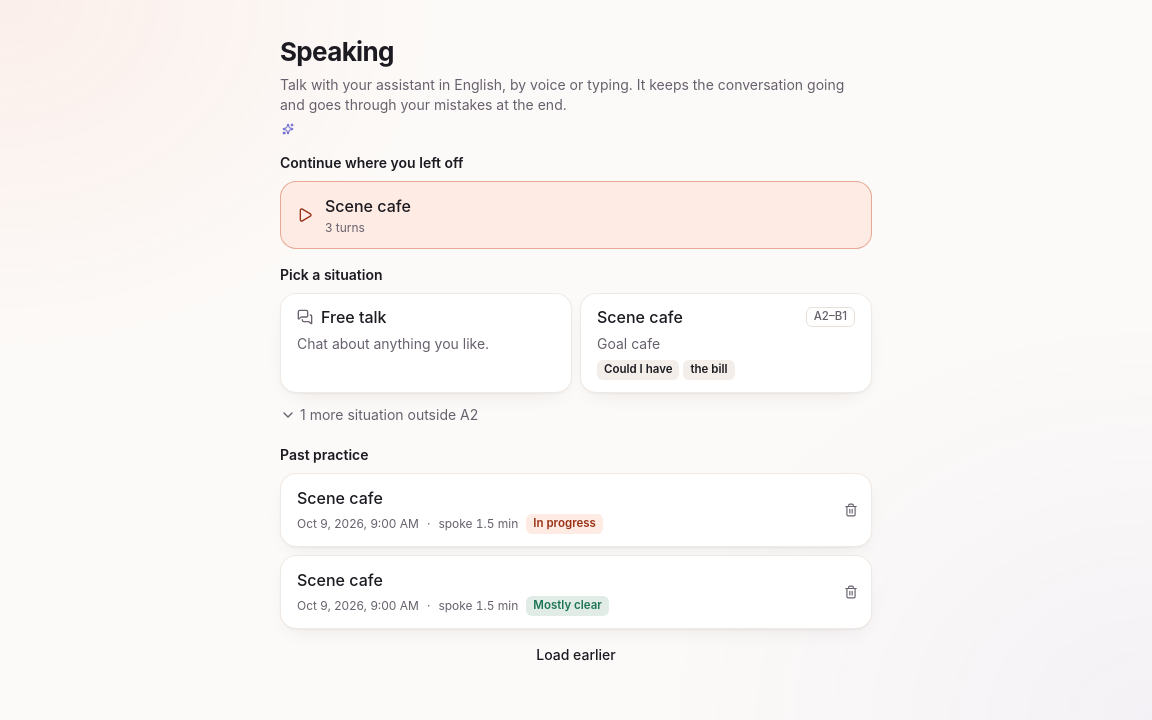
Test: SpeakingList › offers the open practice first, lists past ones and deletes one
Expected: the link with test id "speaking-continue" shows "Scene cafe", [280,181,872,249]
Expected: the link with test id "speaking-continue" shows "3 turns", [280,181,872,249]
Click the button "Load earlier".
click(576, 655)  # box [521,637,631,673]
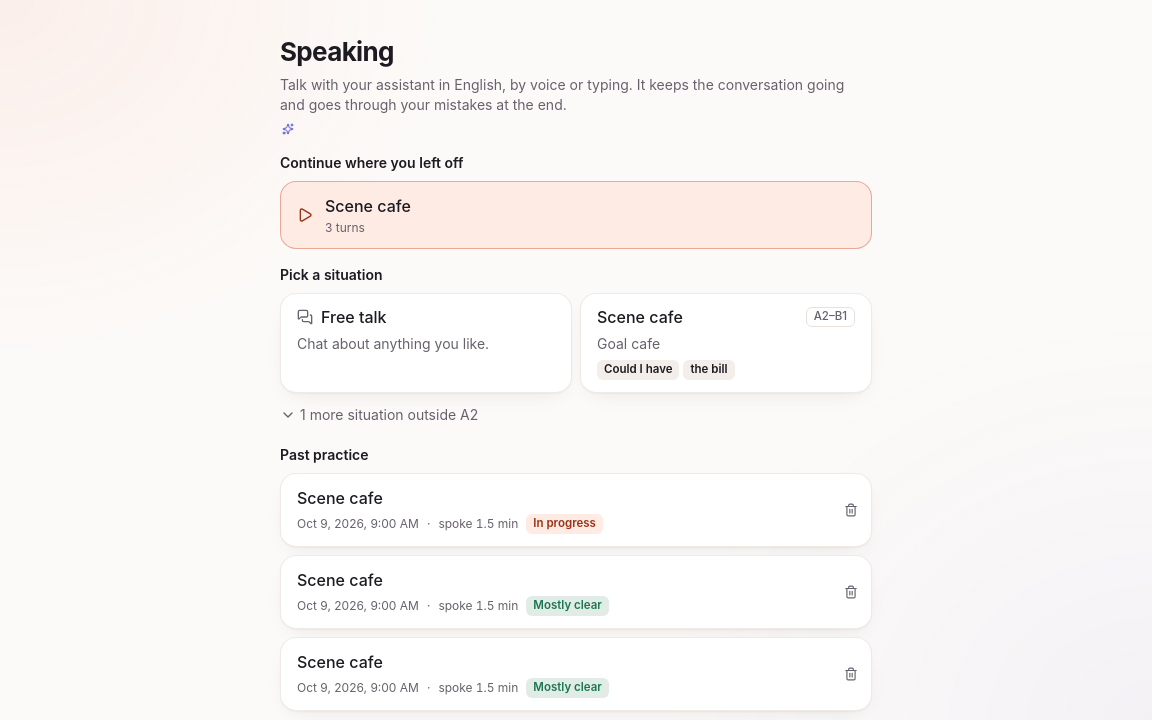
Expected: the number of elements with test id "speaking-session" is 3, [280,473,872,547]; [280,555,872,629]; [280,637,872,711]
Click the 2nd button named "Delete".
click(851, 592)  # box [839,580,863,604]
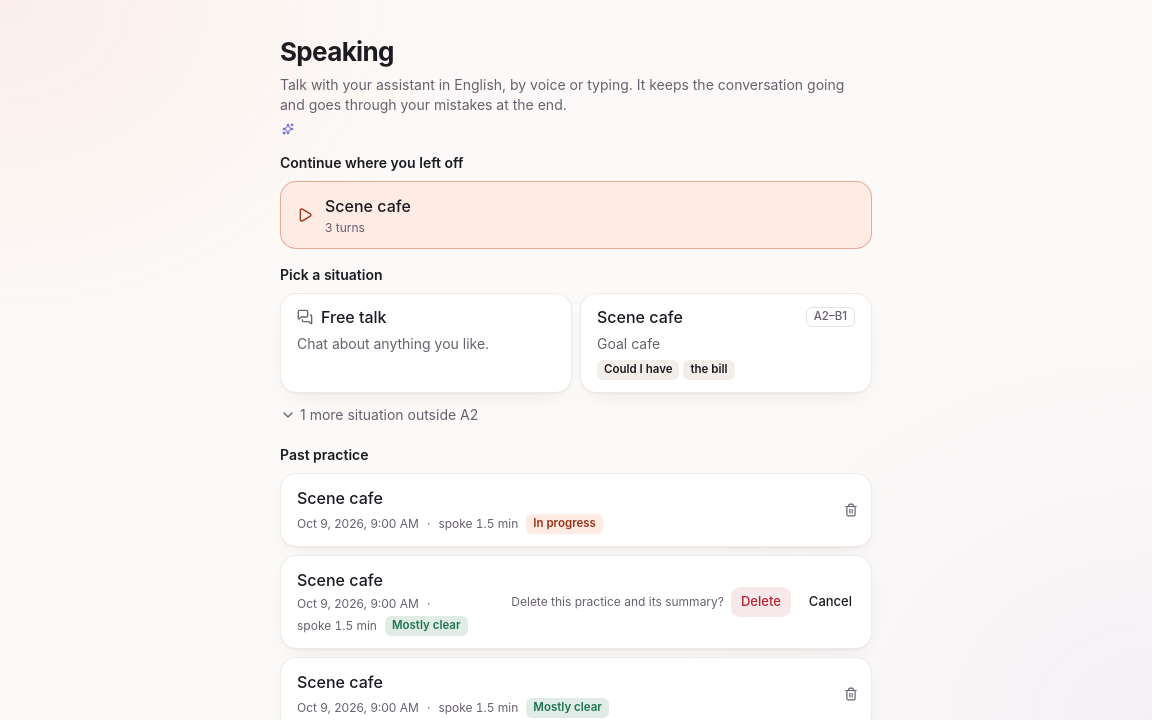
Click the button "Delete".
click(761, 602)  # box [730,586,792,618]
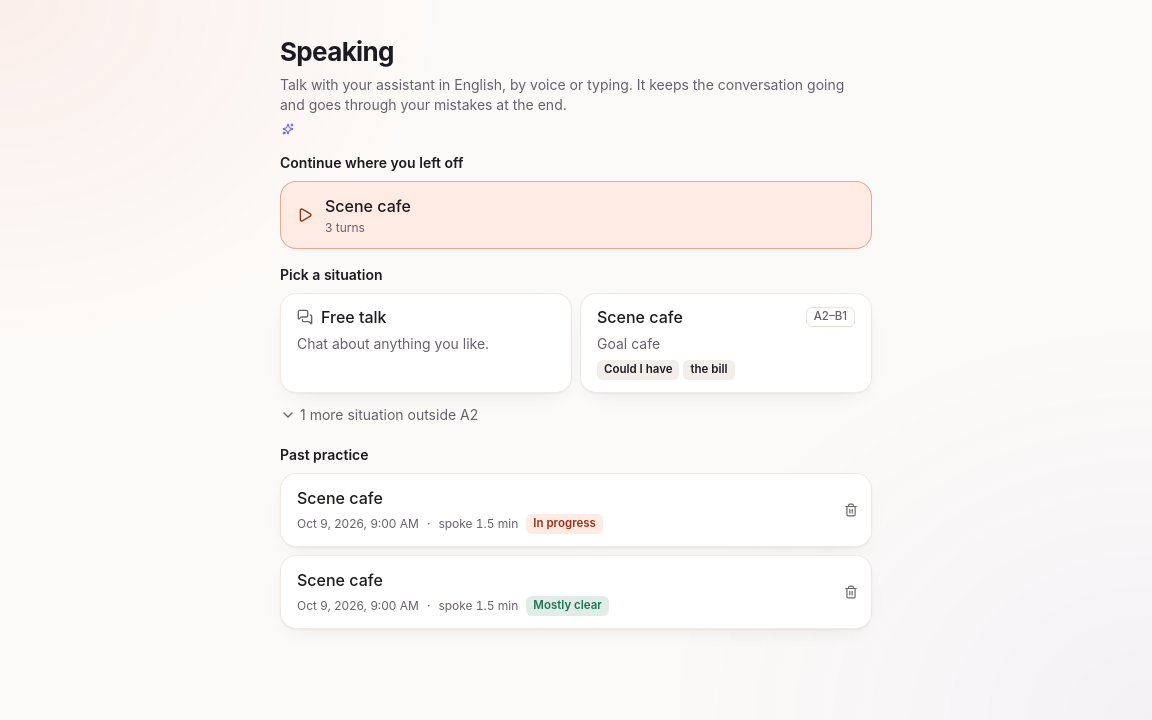
Expected: the number of elements with test id "speaking-session" is 2, [280,473,872,547]; [280,555,872,629]
